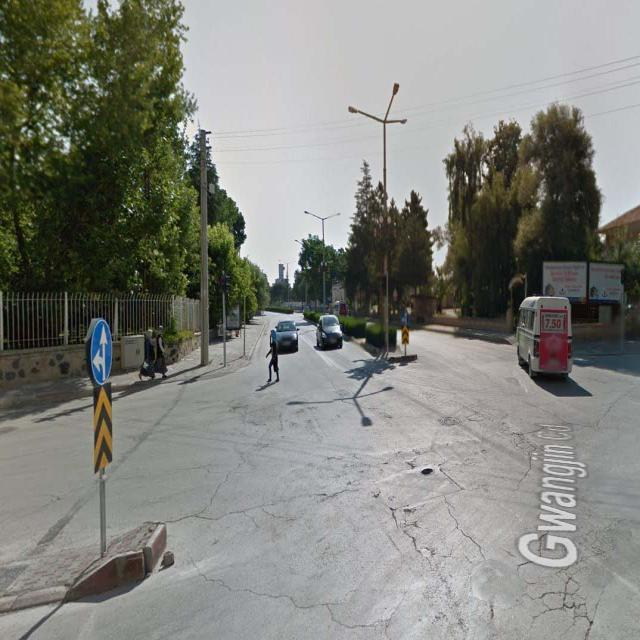ilerisol: (89, 320, 112, 388), (400, 310, 410, 326)
